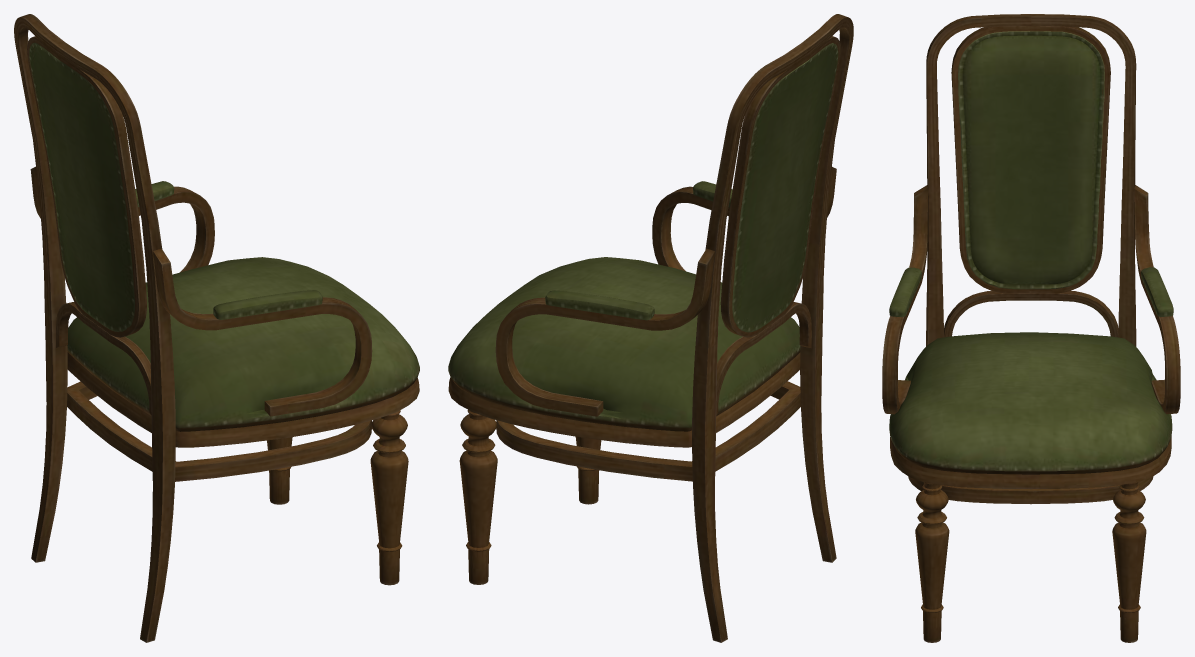
Rendered from chair-dining-carved.glb.
3 renders of one model, left to right at view 1: azimuth 30°, elevation 25°; view 2: azimuth 150°, elevation 25°; view 3: azimuth 270°, elevation 25°, orthographic. The views are drawn at different scales.
Visible parts, largest first — view 1: chair-dining-carved; view 2: chair-dining-carved; view 3: chair-dining-carved.
Boxes of the visible parts, box(x1,y1,x2,y2) form: chair-dining-carved: box(14, 14, 419, 642); chair-dining-carved: box(448, 14, 853, 642); chair-dining-carved: box(882, 14, 1180, 642).
Size of the model in its own units: 0.6413 by 1.08 by 0.5786.
Materials: 1 (1 with a texture image).
